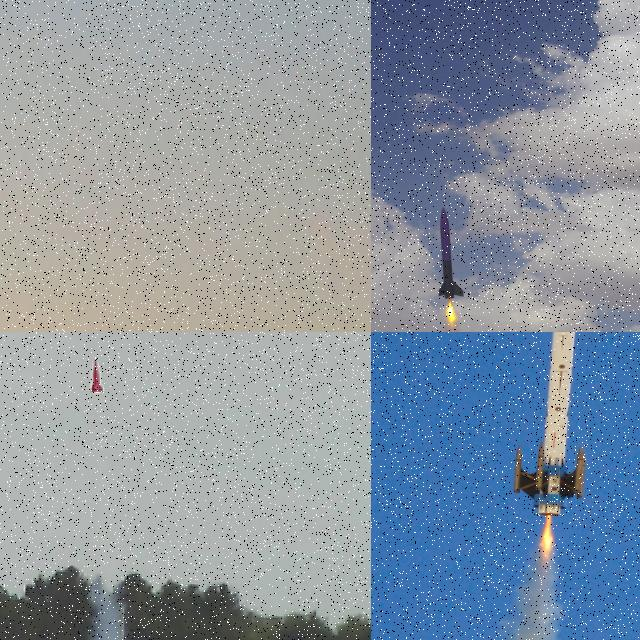Rocket: (513, 332, 589, 518), (439, 206, 464, 299), (88, 358, 105, 394)
